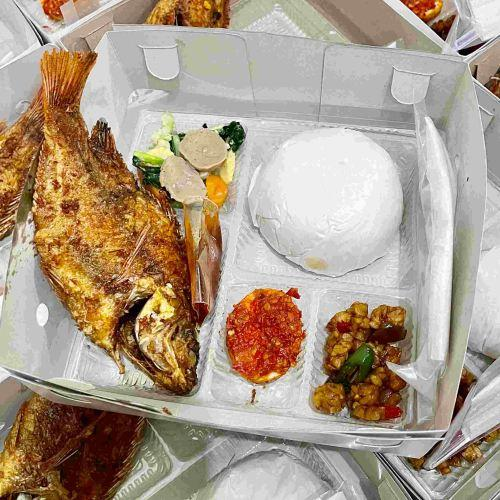buah_sayur_lainnya: (150, 127, 231, 180)
buah_sayur_vitA: (243, 298, 287, 372)
daging: (70, 156, 131, 301)
kacang_legume: (336, 314, 398, 410)
makanan_berpati: (292, 142, 374, 242)
